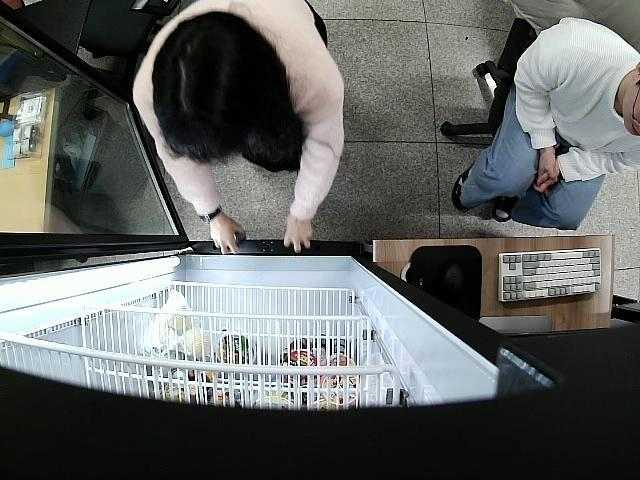14_welchsGrape: (224, 230, 247, 253)
